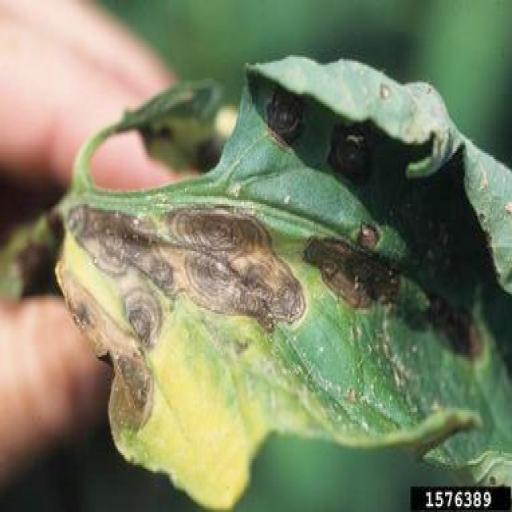disease_tomato: (59, 57, 512, 512)
